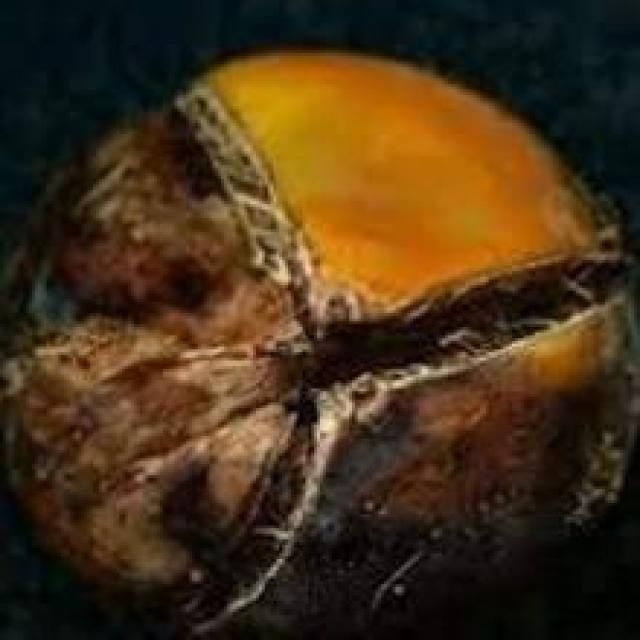damaged: (0, 48, 634, 634)
